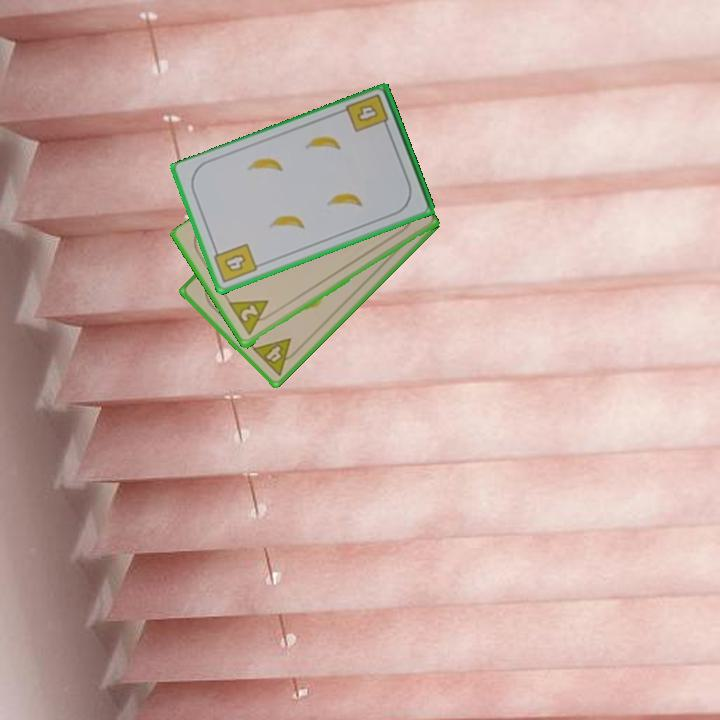2p: (226, 296, 277, 338)
4b: (210, 240, 260, 286), (343, 91, 392, 136)
4p: (249, 334, 303, 379)
